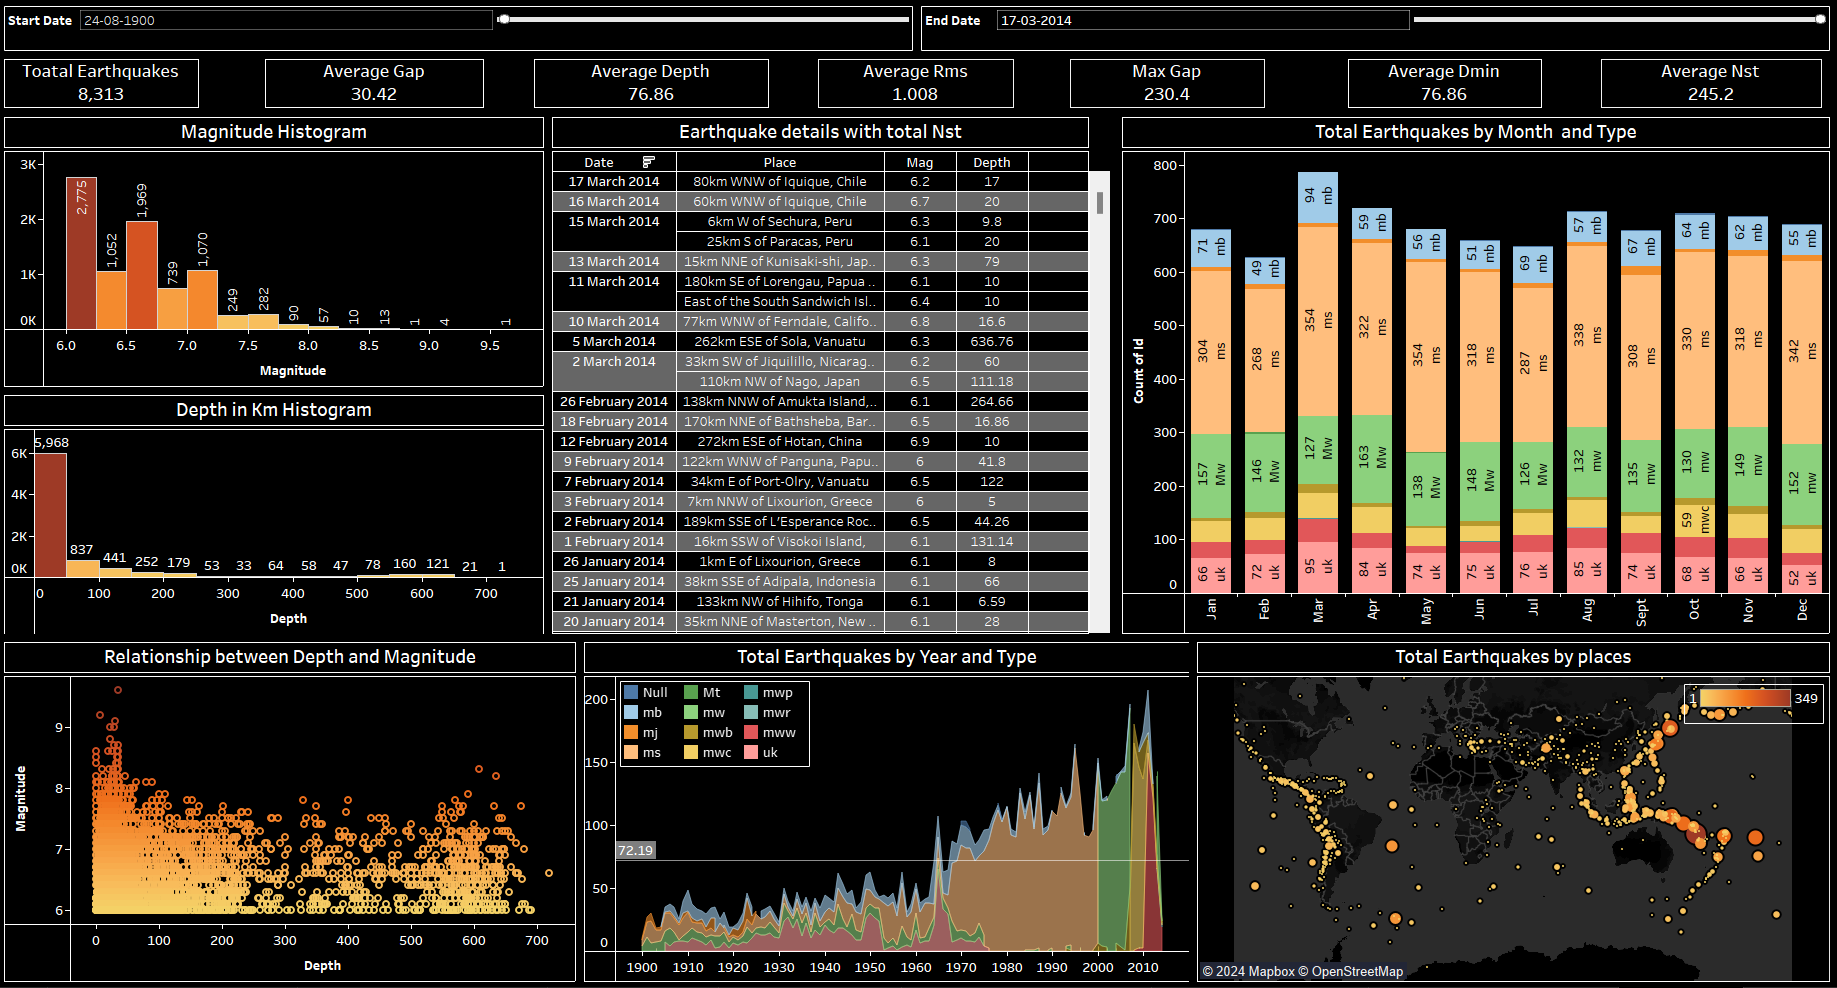

The dashboard page shown, as its layout file describes it:
{"tool":"tableau","page":{"name":"Dashboard 1","canvas":[1850,1000],"ordinal":0},"visuals":[{"type":"parameter","param":"[Parameters].[Parameter 1]","box":[8,8,917,53]},{"type":"parameter","param":"[Parameters].[Parameter 2]","box":[925,8,917,53]},{"type":"worksheet","title":"Sheet 1","mark":"Automatic","box":[8,61,261,58]},{"type":"worksheet","title":"Sheet 1 (4)","mark":"Automatic","box":[269,61,269,58]},{"type":"worksheet","title":"Sheet 1 (3)","mark":"Automatic","box":[538,61,284,58]},{"type":"worksheet","title":"Sheet 1 (6)","mark":"Automatic","box":[822,61,252,58]},{"type":"worksheet","title":"Sheet 1 (7)","mark":"Automatic","box":[1074,61,278,58]},{"type":"worksheet","title":"Sheet 1 (2)","mark":"Automatic","box":[1352,61,253,58]},{"type":"worksheet","title":"Sheet 1 (5)","mark":"Automatic","box":[1605,61,237,58]},{"type":"worksheet","title":"Magnitude Histogram","mark":"Automatic","rows":["mag"],"cols":["Mag (bin)"],"box":[8,119,548,277.7]},{"type":"worksheet","title":"Earthquake details with total Nst","mark":"Automatic","rows":["Date","place","mag","depth"],"box":[556,119,570,525.3]},{"type":"worksheet","title":"Total Earthquakes by Month  and Type","mark":"Bar","rows":["id"],"cols":["Date"],"box":[1126,119,716,525.3]},{"type":"worksheet","title":"Depth in Km Histogram","mark":"Automatic","rows":["depth"],"cols":["Depth (bin)"],"box":[8,396.7,548,247.7]},{"type":"worksheet","title":"Relationship between Depth and Magnitude","mark":"Automatic","rows":["mag"],"cols":["depth"],"box":[8,644.3,579.5,347.7]},{"type":"worksheet","title":"Total Earthquakes by Year and Type","mark":"Area","rows":["id"],"cols":["Date"],"box":[587.5,644.3,613.5,347.7]},{"type":"worksheet","title":"Total Earthquakes by places","mark":"Automatic","rows":["latitude"],"cols":["longitude"],"box":[1201.1,644.3,640.9,347.7]},{"type":"legend","title":"Total Earthquakes by Month  and Type","param":"[federated.1xhno8e17oudad161umrr17ne6i7].[none:magType:nk]","box":[628,687,190,86]},{"type":"legend","title":"Total Earthquakes by places","param":"[federated.1xhno8e17oudad161umrr17ne6i7].[cnt:id:qk]","box":[1692,690,140,40]}]}

Visuals, with their boxes in screenshot pixels (x1, y1, x2, y2), scaled from the page's 1850x1000 canvas onto the 1837x988 screenshot:
parameter: [x1=8, y1=8, x2=918, y2=60]
parameter: [x1=918, y1=8, x2=1829, y2=60]
"Sheet 1" worksheet: [x1=8, y1=60, x2=267, y2=118]
"Sheet 1 (4)" worksheet: [x1=267, y1=60, x2=534, y2=118]
"Sheet 1 (3)" worksheet: [x1=534, y1=60, x2=816, y2=118]
"Sheet 1 (6)" worksheet: [x1=816, y1=60, x2=1066, y2=118]
"Sheet 1 (7)" worksheet: [x1=1066, y1=60, x2=1342, y2=118]
"Sheet 1 (2)" worksheet: [x1=1342, y1=60, x2=1594, y2=118]
"Sheet 1 (5)" worksheet: [x1=1594, y1=60, x2=1829, y2=118]
"Magnitude Histogram" worksheet: [x1=8, y1=118, x2=552, y2=392]
"Earthquake details with total Nst" worksheet: [x1=552, y1=118, x2=1118, y2=637]
"Total Earthquakes by Month  and Type" worksheet (Bar marks): [x1=1118, y1=118, x2=1829, y2=637]
"Depth in Km Histogram" worksheet: [x1=8, y1=392, x2=552, y2=637]
"Relationship between Depth and Magnitude" worksheet: [x1=8, y1=637, x2=583, y2=980]
"Total Earthquakes by Year and Type" worksheet (Area marks): [x1=583, y1=637, x2=1193, y2=980]
"Total Earthquakes by places" worksheet: [x1=1193, y1=637, x2=1829, y2=980]
"Total Earthquakes by Month  and Type" legend: [x1=624, y1=679, x2=812, y2=764]
"Total Earthquakes by places" legend: [x1=1680, y1=682, x2=1819, y2=721]
